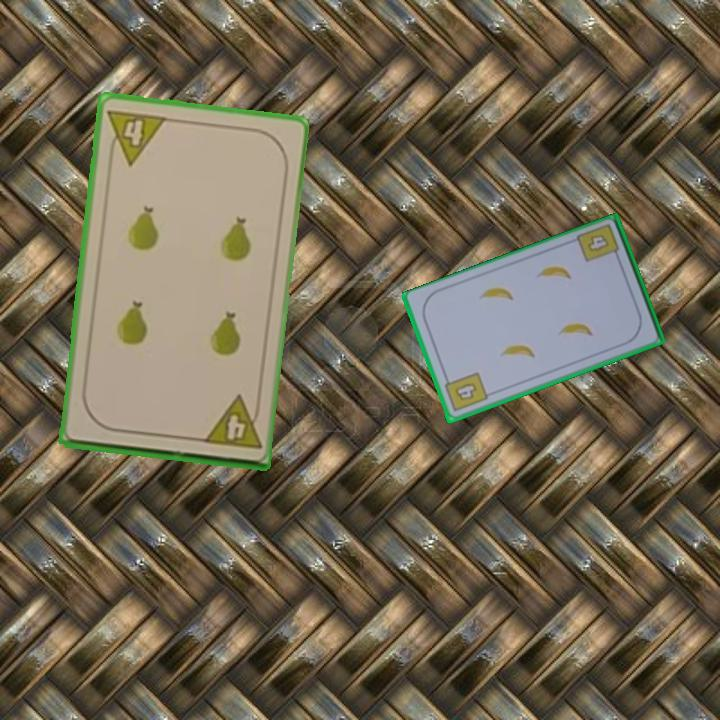4b: (441, 369, 490, 415), (584, 231, 609, 255)
4p: (104, 105, 169, 168), (199, 392, 264, 452)
